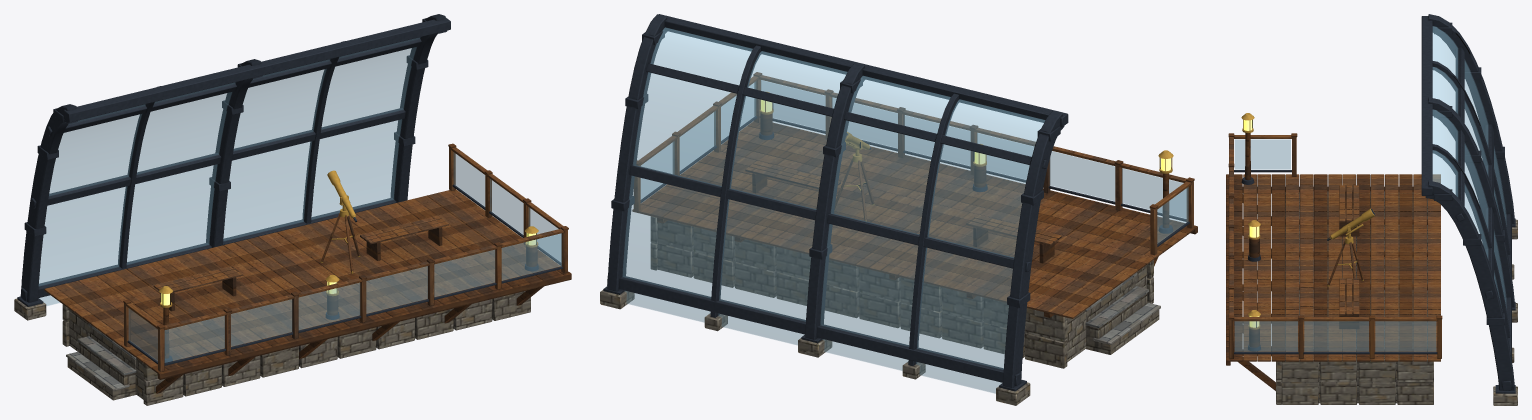
Rendered from landmark_window_overlook.glb.
3 renders of one model, left to right at view 1: azimuth 30°, elevation 25°; view 2: azimuth 150°, elevation 25°; view 3: azimuth 270°, elevation 25°, orthographic. The views are drawn at different scales.
Visible parts, largest first — view 1: WindowOverlookBody, WindowOverlookGlass; view 2: WindowOverlookBody, WindowOverlookGlass; view 3: WindowOverlookBody, WindowOverlookGlass, WindowOverlookLanterns.
Part boxes in pixels (x1,y1,x2,y2): WindowOverlookBody: (14,14,571,405); WindowOverlookGlass: (38,37,561,362); WindowOverlookBody: (600,14,1197,405); WindowOverlookGlass: (622,27,1188,393); WindowOverlookBody: (1226,14,1517,405); WindowOverlookGlass: (1234,26,1506,351); WindowOverlookLanterns: (1243,120,1259,327).
Size of the model in its own units: 9.75 by 5.29 by 6.37.
Materials: 5 (3 with a texture image).
